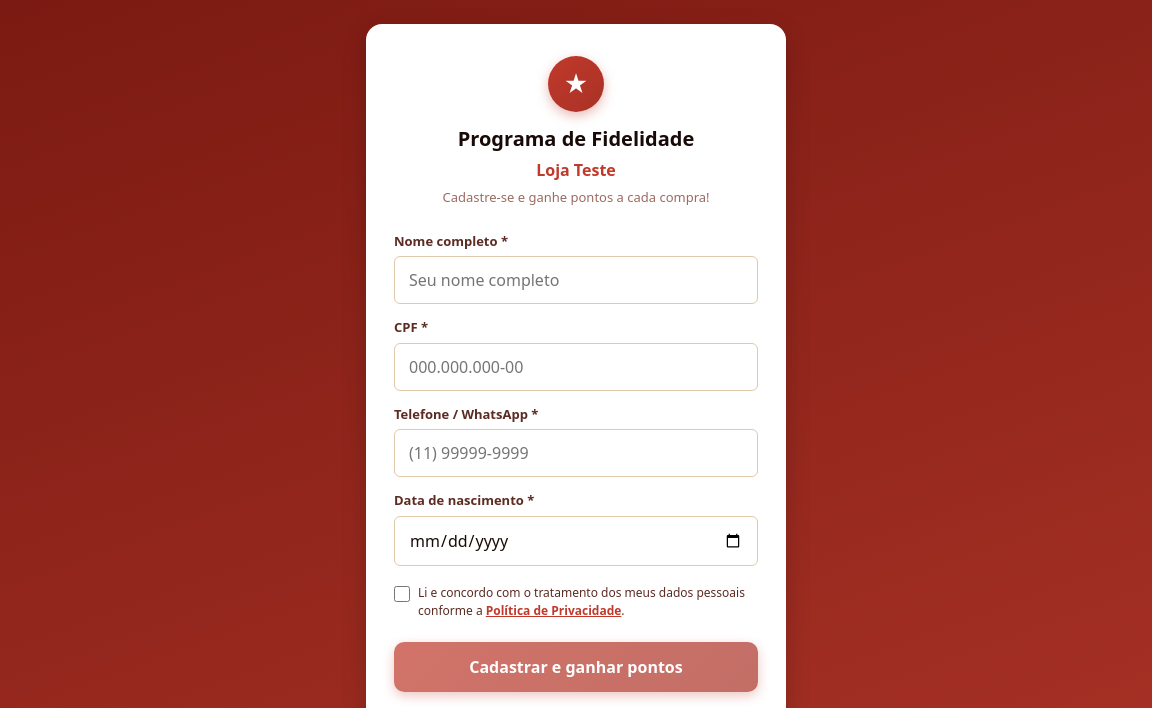
Scenario: CustomerRegisterView › submits digits-only payload with consent and shows the success message
Type "João da Silva" into the field with placeholder "Seu nome completo" at (576, 280), box [394,256,758,304]
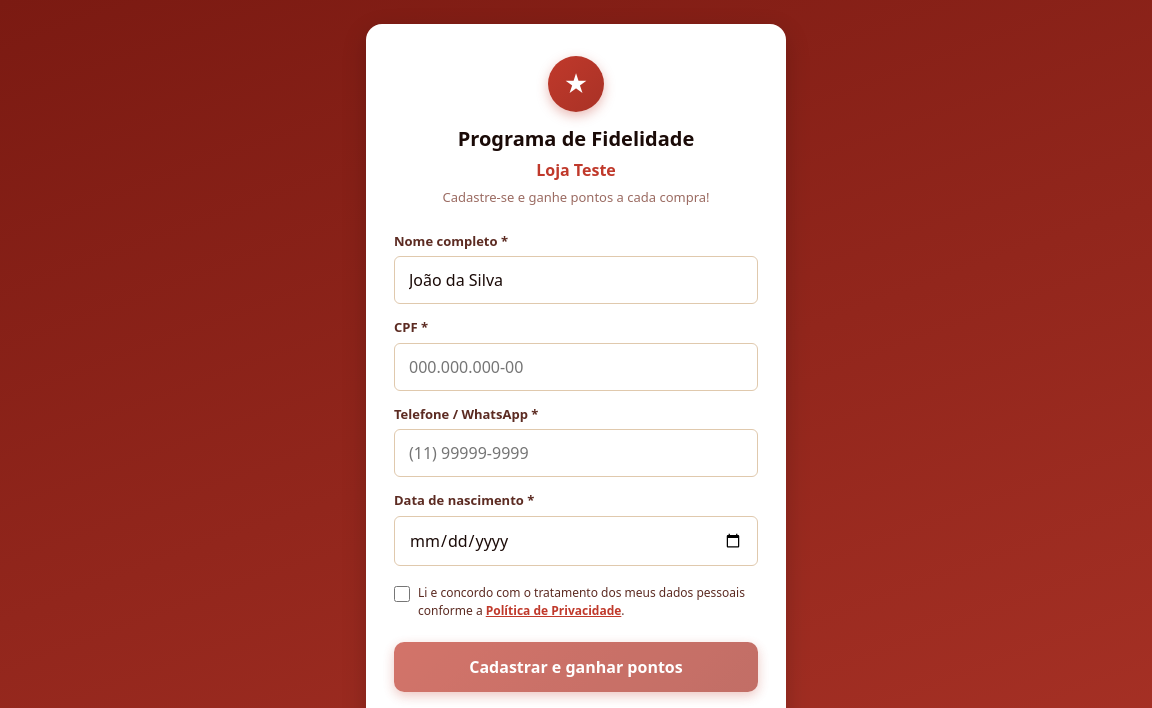
Type "52998224725" into the field with placeholder "000.000.000-00" at (576, 366), box [394,342,758,390]
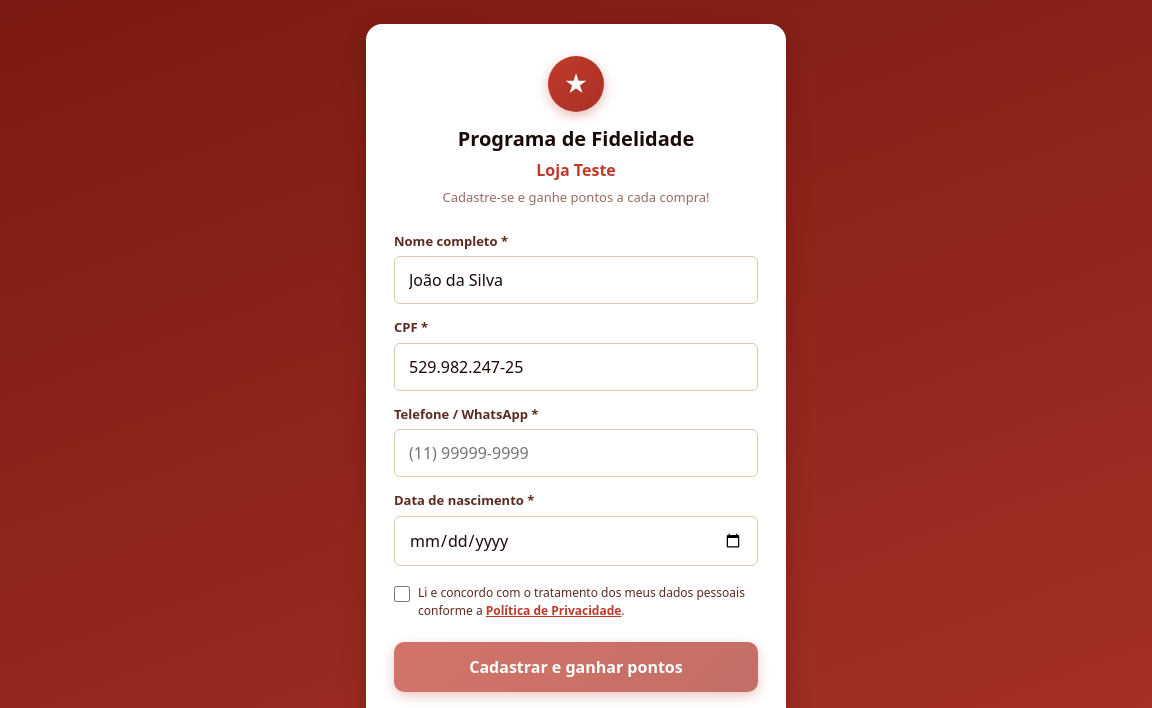
Type "11988887777" into the field with placeholder "(11) 99999-9999" at (576, 453), box [394,429,758,477]
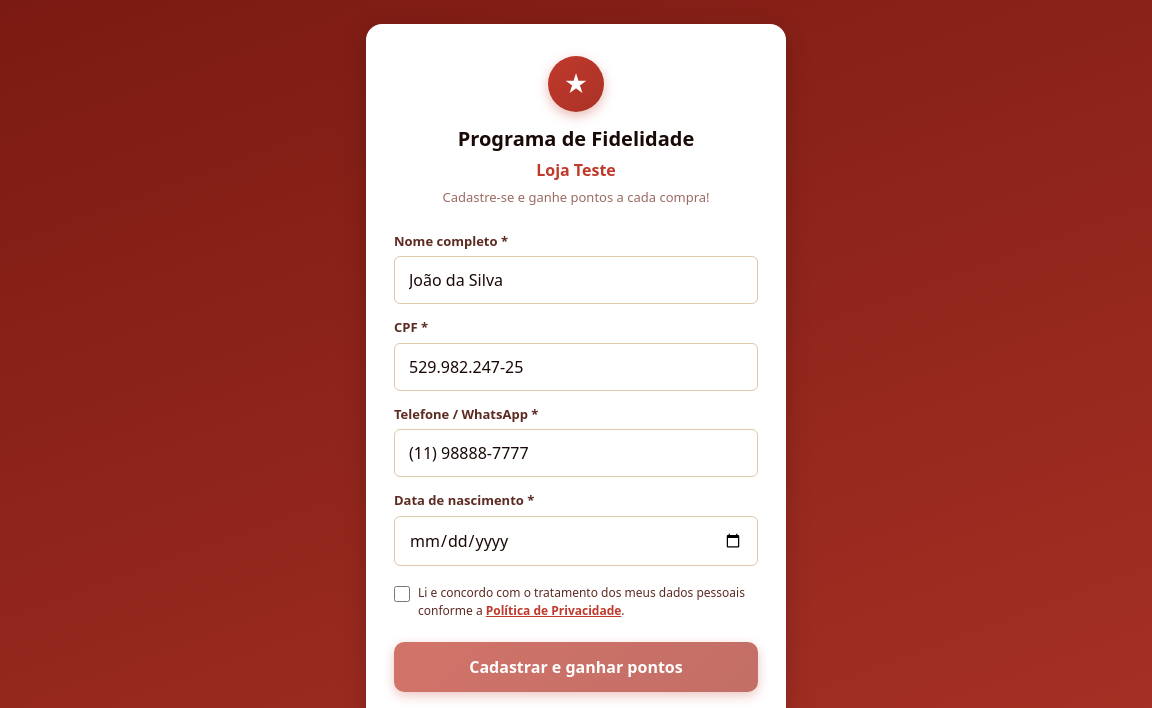
Type "1995-03-10" into the date field at (576, 540), box [394,516,758,566]
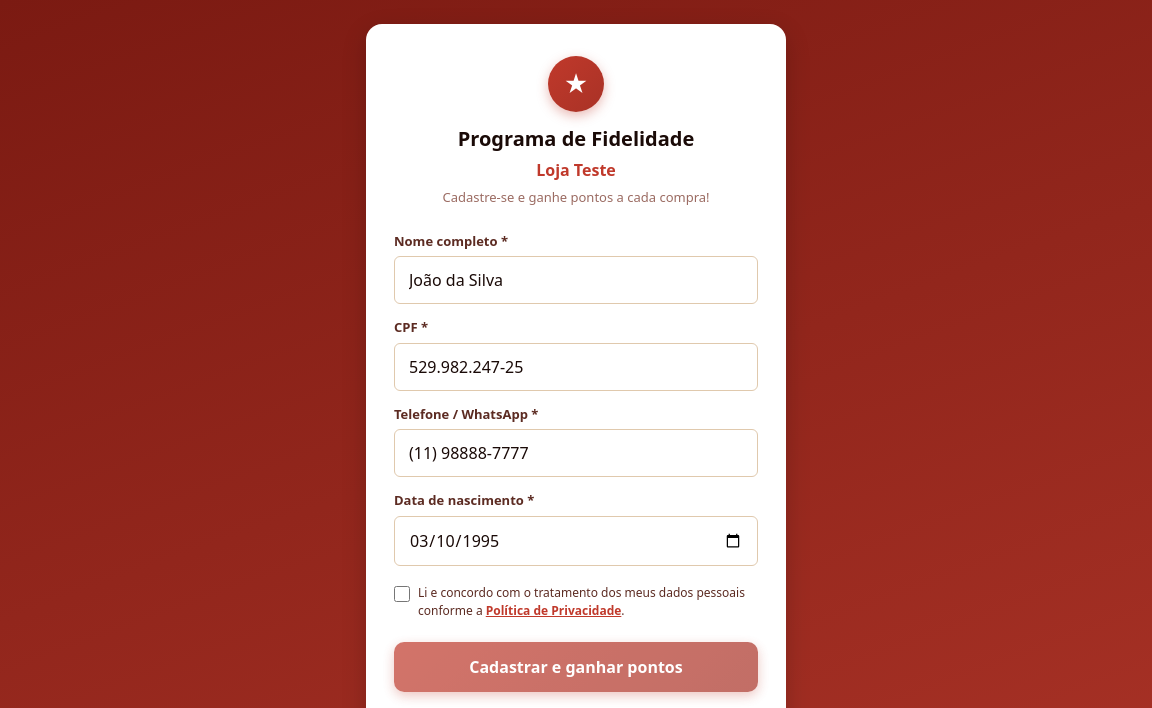
Click the checkbox at (402, 594), box [394,586,410,602]
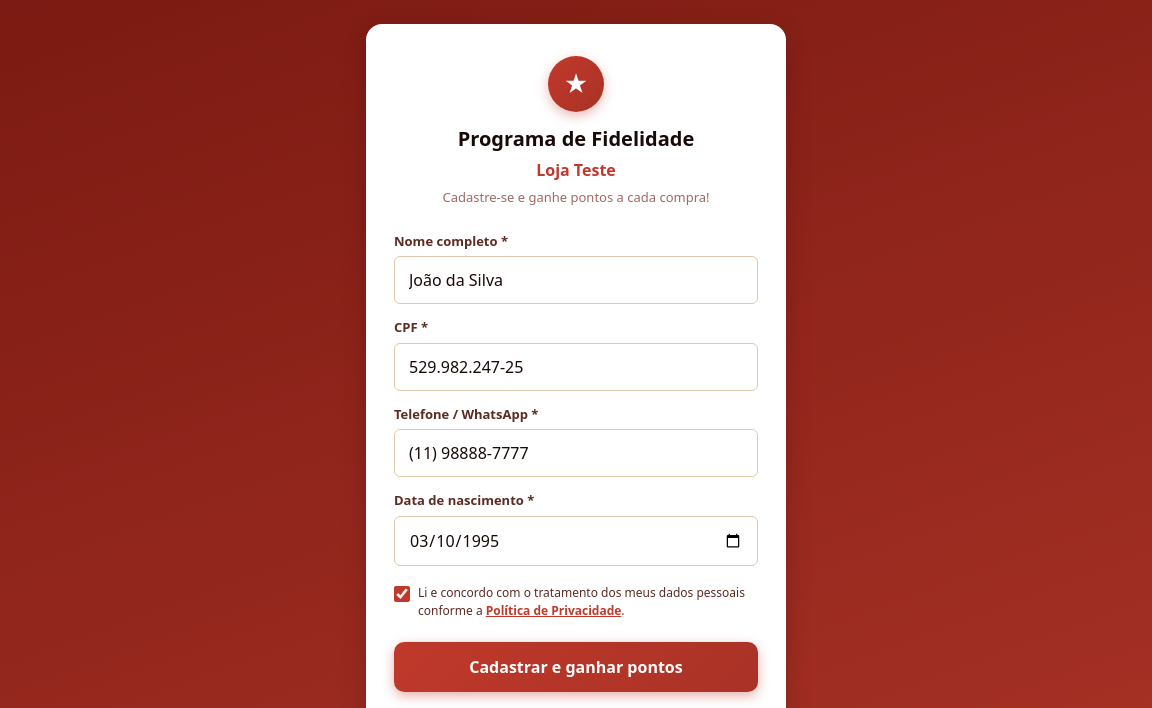
Submit the form, box [394,232,758,692]
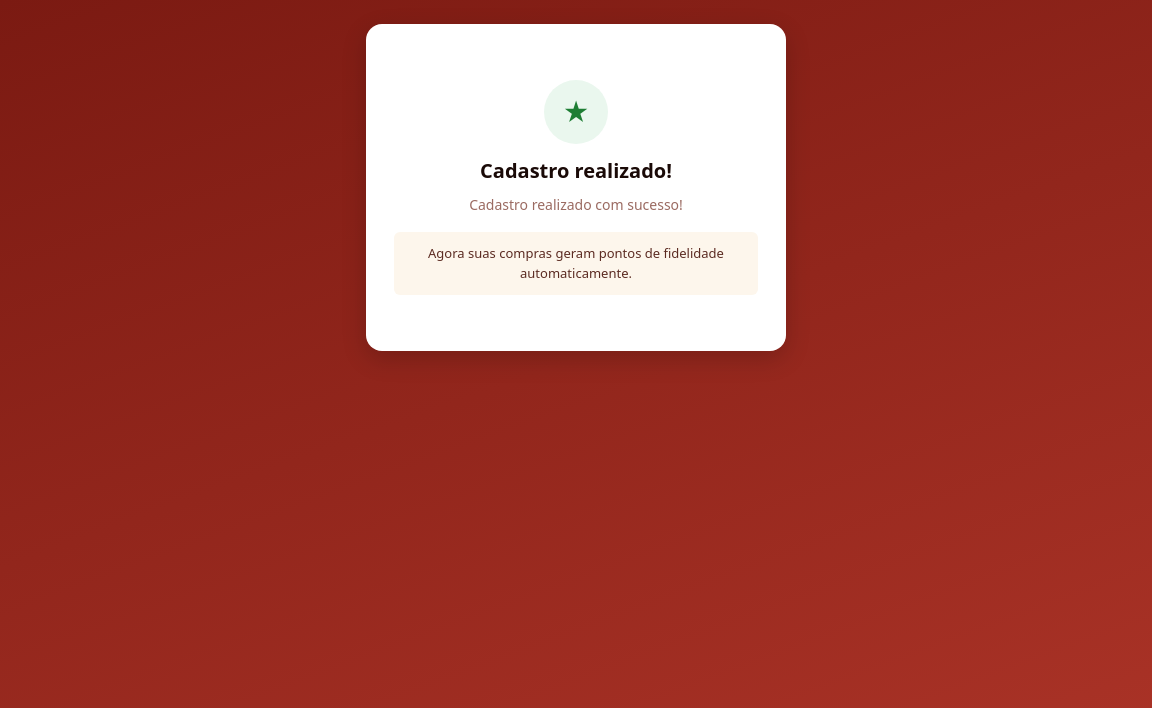
Expected: the text "Cadastro realizado!" is shown, [480,157,672,184]
Expected: the text "Cadastro realizado com sucesso!" is shown, [469,195,683,214]
